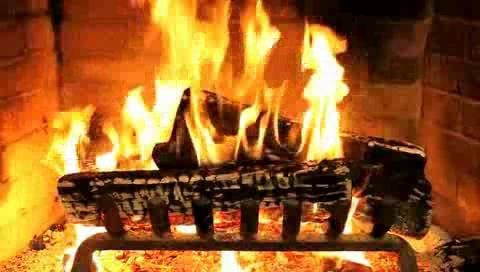fire: (89, 23, 350, 167)
